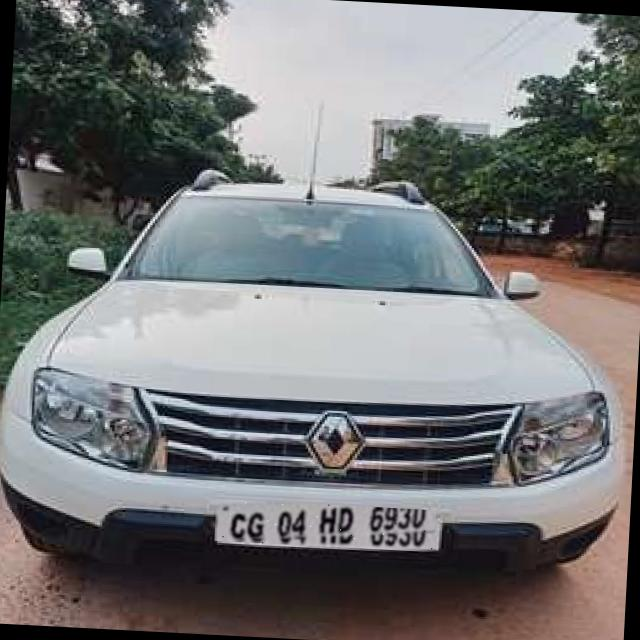Plate: (215, 500, 439, 554)
